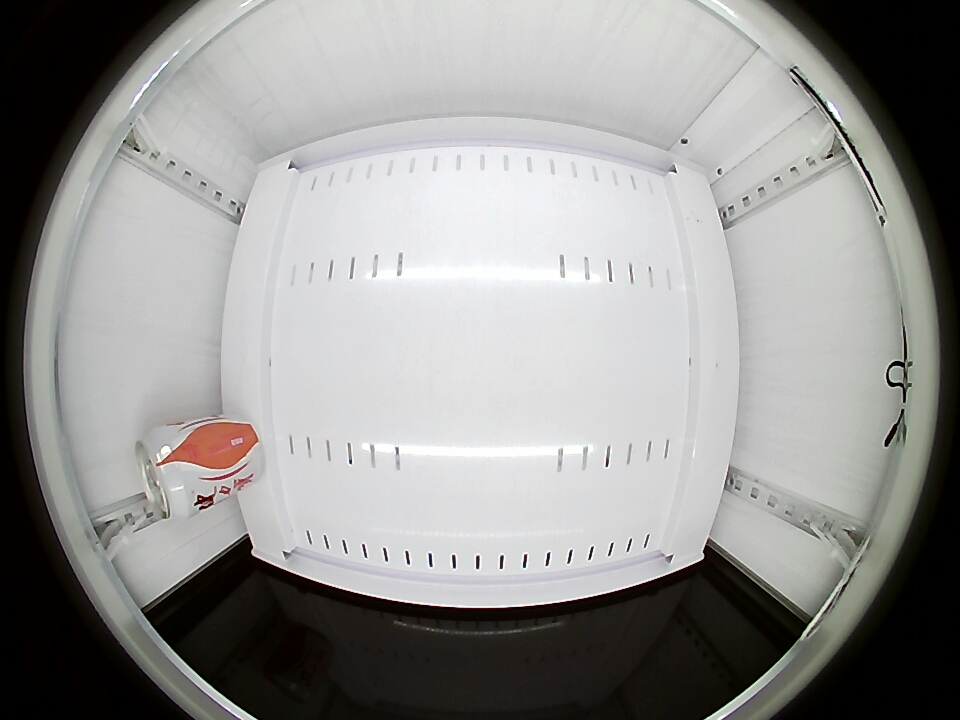jianlibao: (137, 425, 202, 521)
